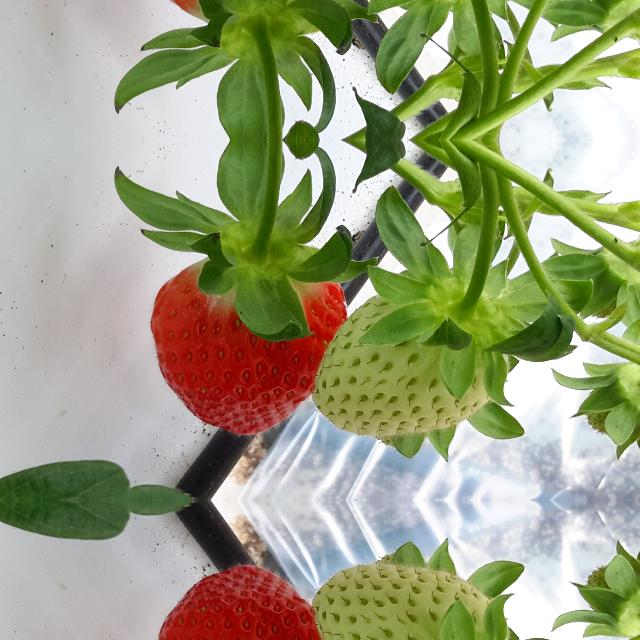Health_100: (151, 258, 347, 437), (151, 563, 347, 640)
Health_25: (313, 292, 507, 436), (313, 564, 507, 640)
